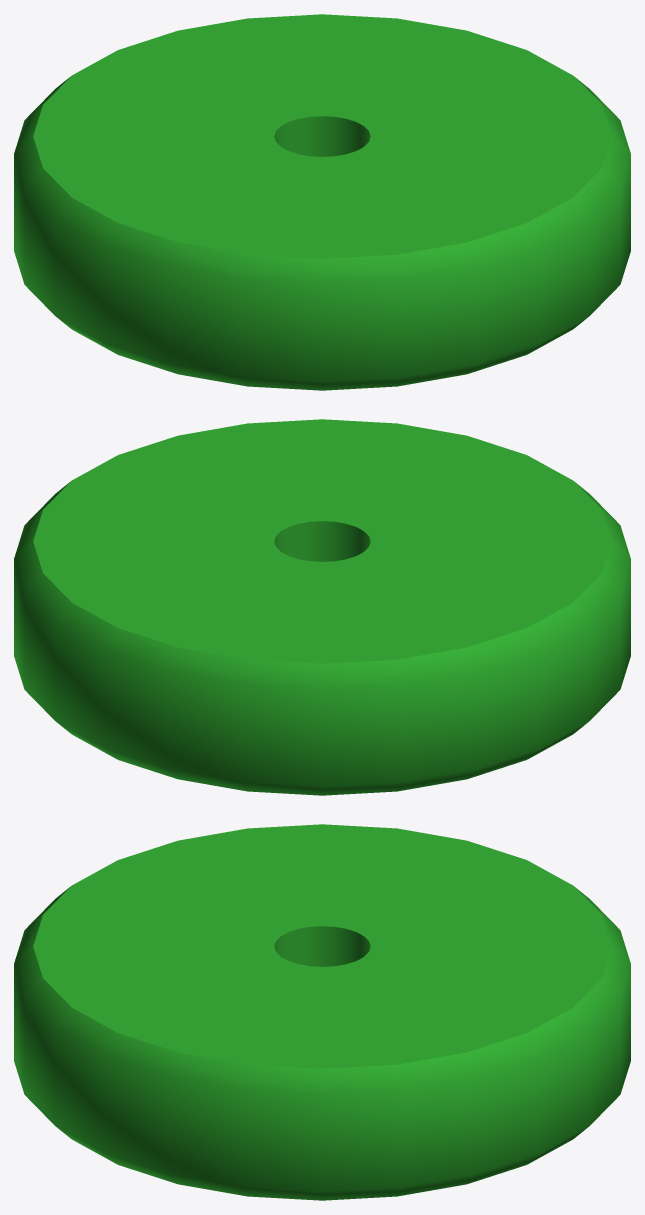
The model's file is ring3.gltf.
The picture shows the model from 3 angles, top to bottom: view 1: azimuth 30°, elevation 25°; view 2: azimuth 150°, elevation 25°; view 3: azimuth 270°, elevation 25°; orthographic projection.
Visible parts, largest first — view 1: 3; view 2: 3; view 3: 3.
Boxes of the visible parts, bbox=[...] form: 3: bbox=[14, 14, 630, 390]; 3: bbox=[14, 419, 630, 795]; 3: bbox=[14, 824, 630, 1200].
Bounding box in the file's own units: 0.6502 × 0.1534 × 0.6502.
